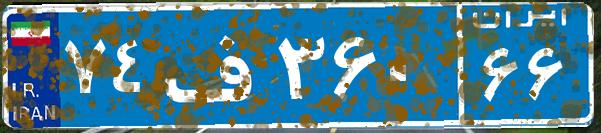0: (385, 28, 445, 110)
3: (273, 28, 330, 110)
4: (110, 28, 158, 105)
6: (330, 28, 385, 110), (475, 38, 525, 113), (525, 38, 570, 115)
7: (57, 26, 110, 107)
ف: (158, 15, 273, 115)
